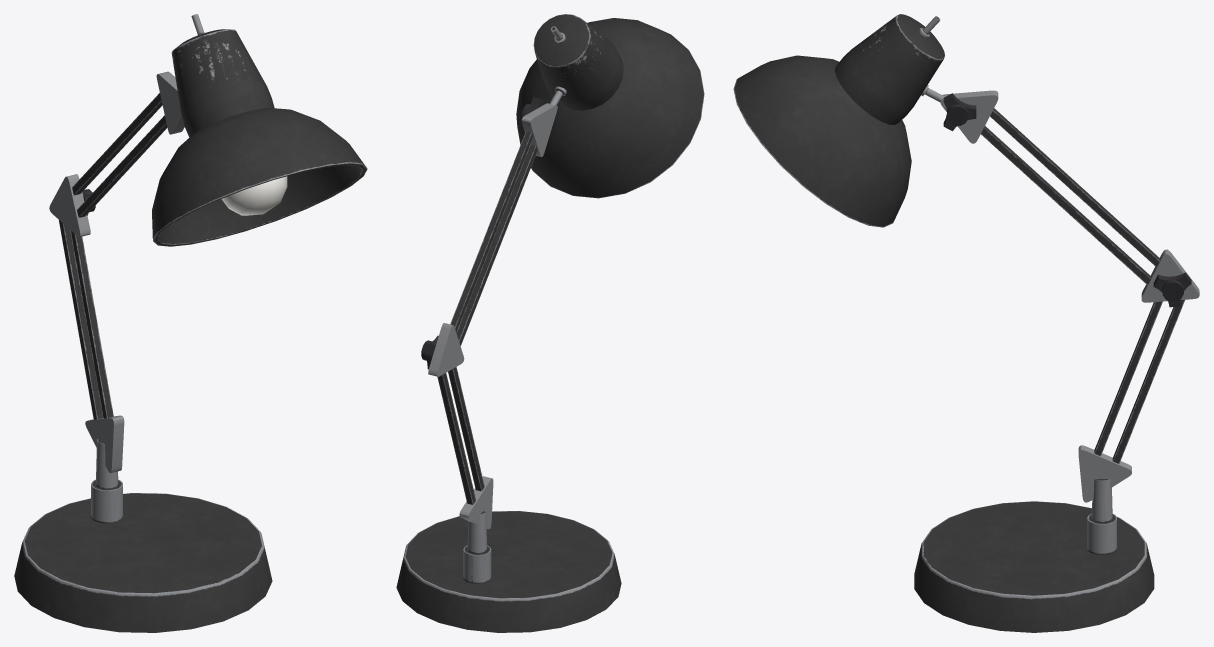
File: desk_light.glb
The picture shows the model from 3 angles, left to right: view 1: azimuth 30°, elevation 25°; view 2: azimuth 150°, elevation 25°; view 3: azimuth 270°, elevation 25°; orthographic projection. The views are drawn at different scales.
Visible parts, largest first — view 1: desk-light; view 2: desk-light; view 3: desk-light.
Boxes of the visible parts, x1,y1,x2,y2 form: desk-light: (14, 14, 367, 632); desk-light: (396, 14, 704, 632); desk-light: (733, 14, 1199, 632).
Size of the model in its own units: 39.19 by 101 by 75.35.
Materials: 1 (1 with a texture image).
